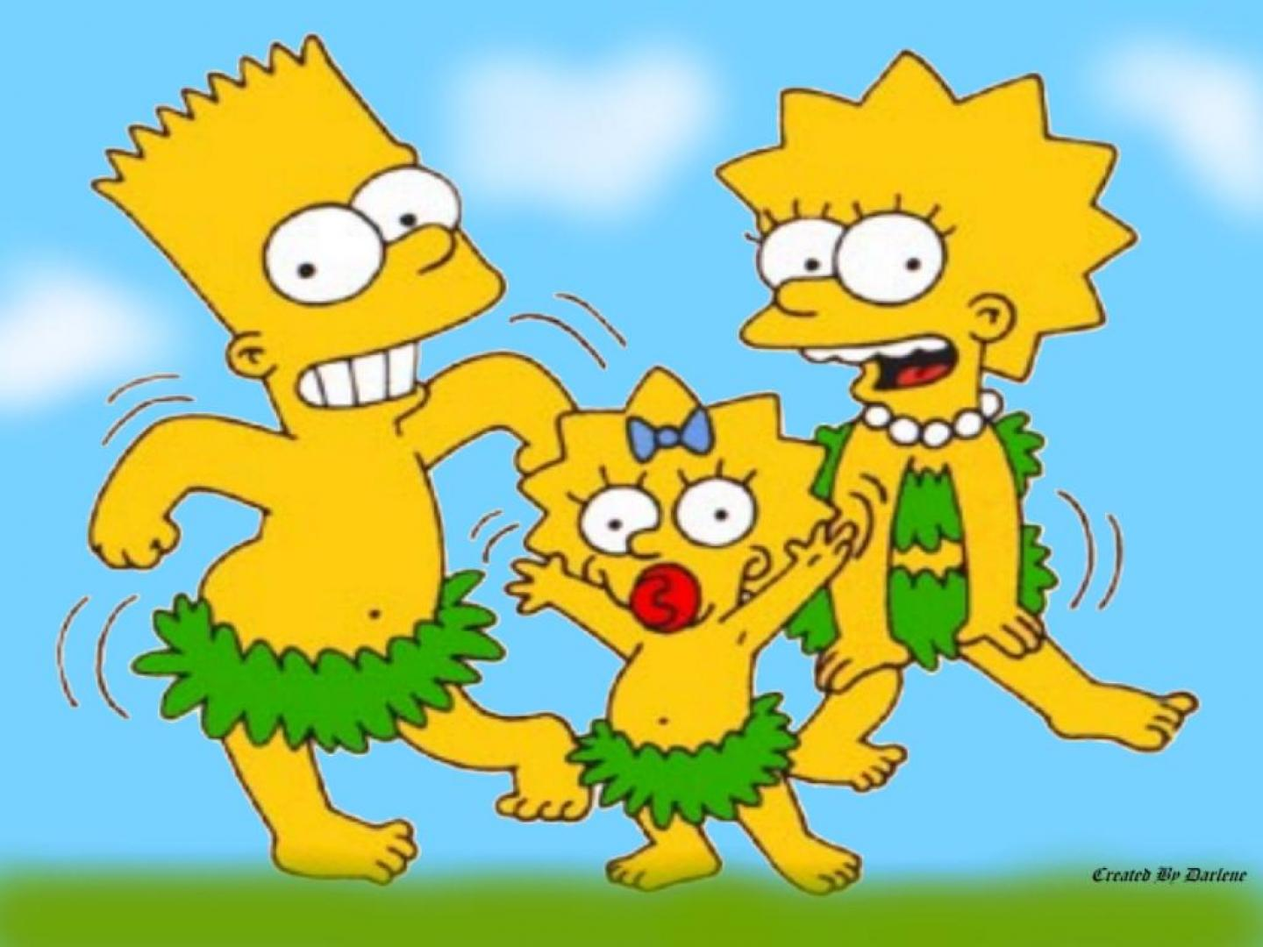Bart: (37, 46, 546, 910)
Lisa: (704, 41, 1221, 795)
Maggie: (519, 374, 835, 895)
